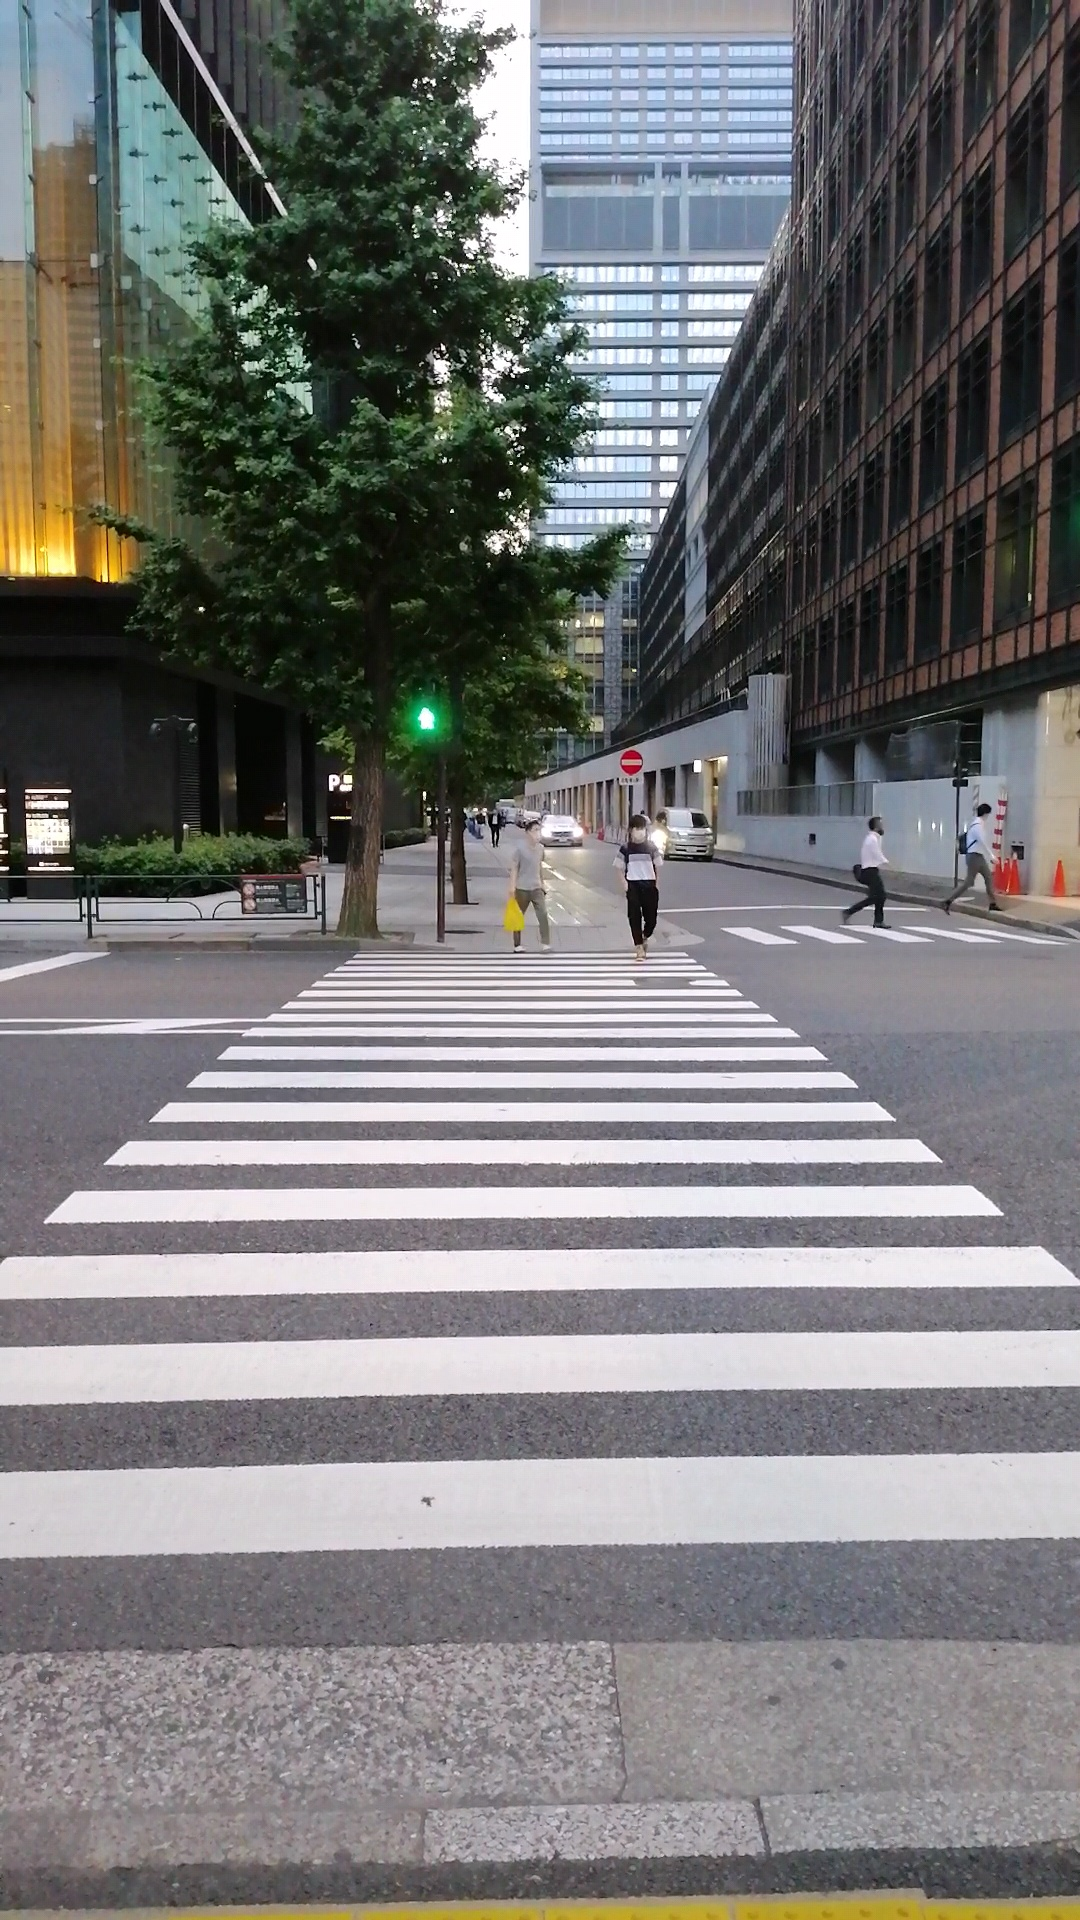green: (410, 676, 440, 737)
